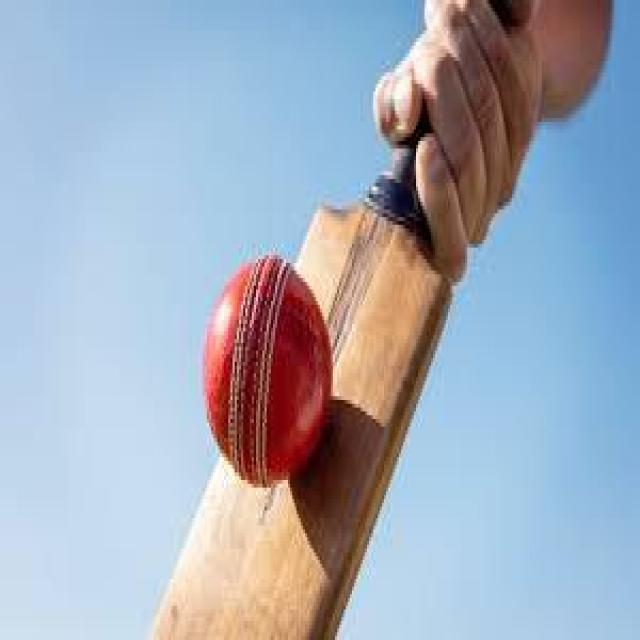ball: (203, 259, 335, 488)
